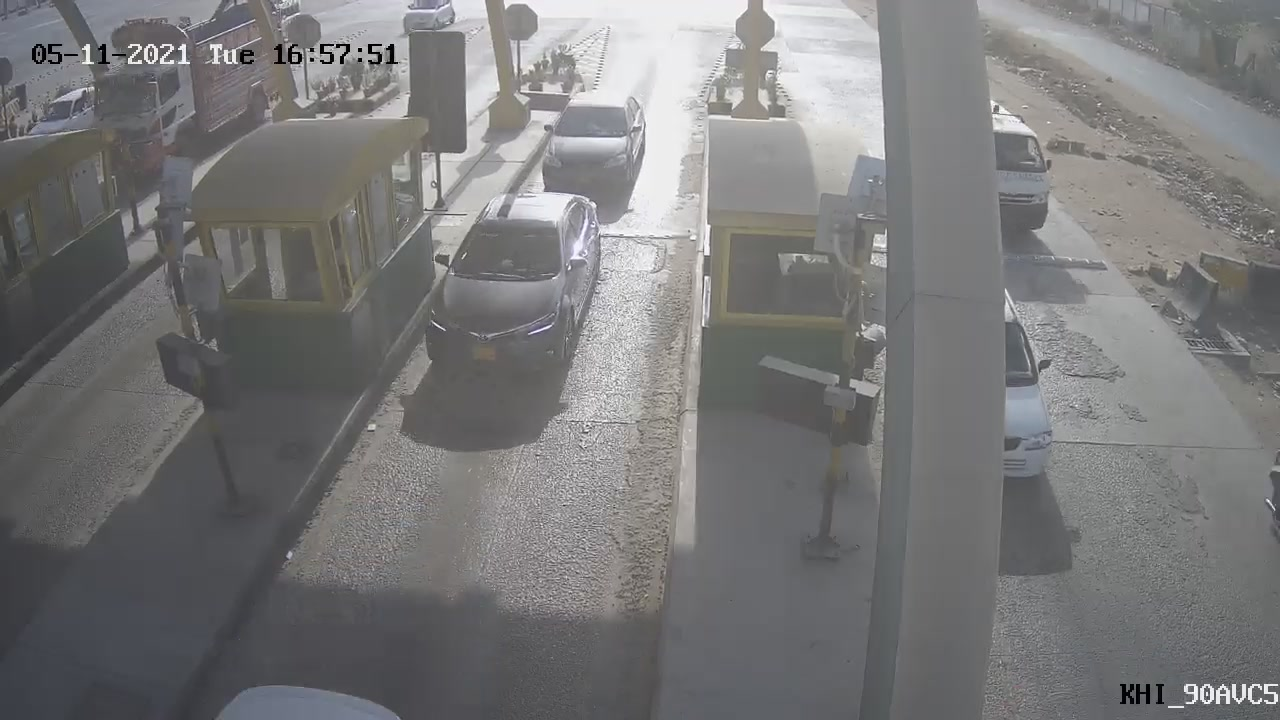F1: (408, 172, 620, 405), (525, 73, 663, 216)
